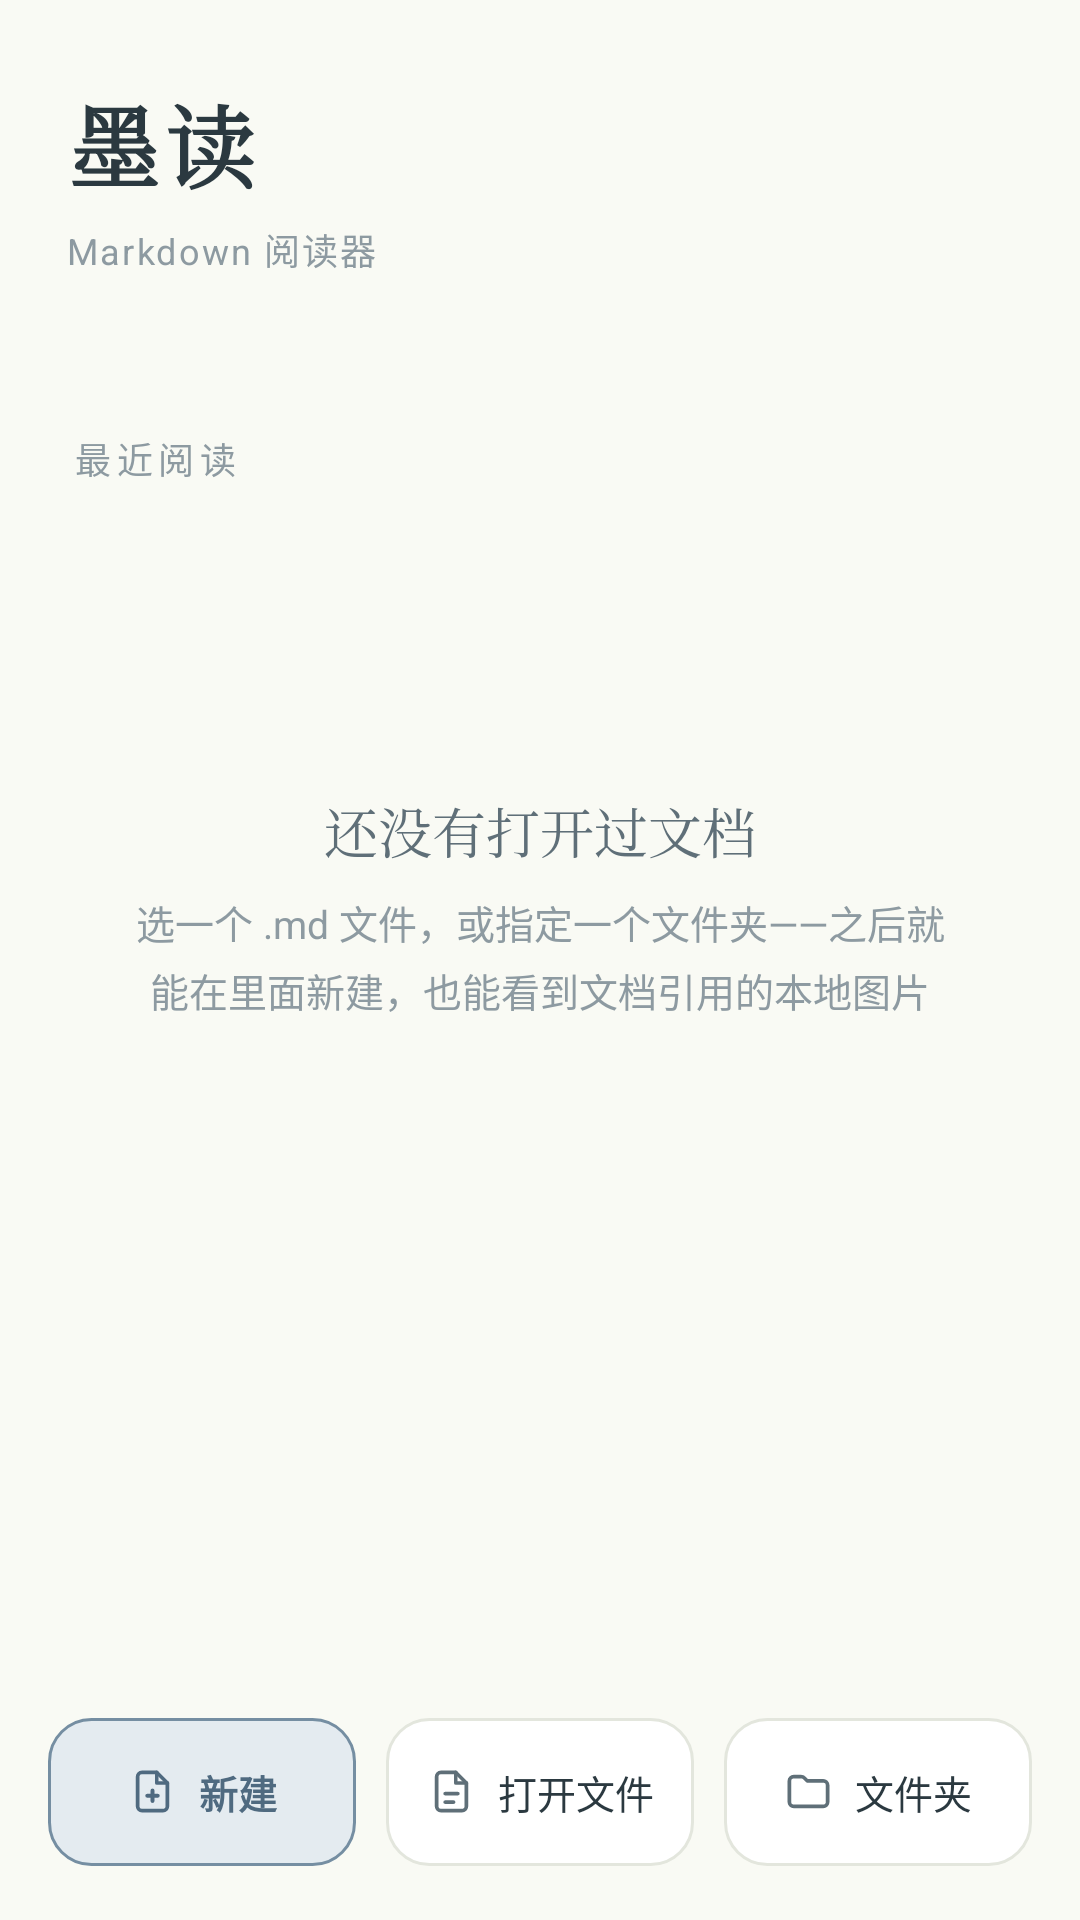

Icons on this 1080px×1920px Android screen, each with the point to tap as (x,y):
doc: (451,1791)
folder: (808,1791)
plus: (152,1791)
